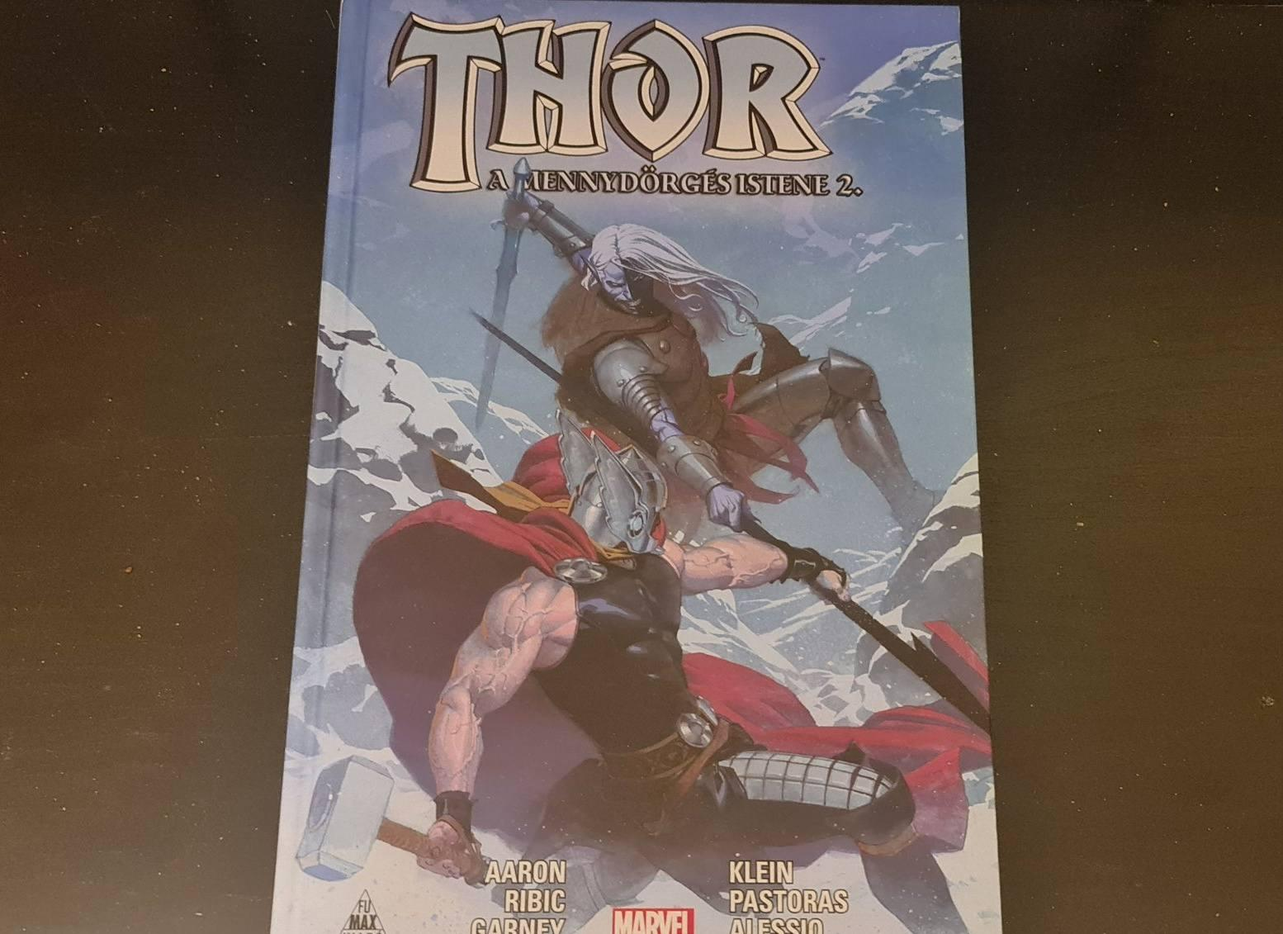comic: (272, 0, 1000, 933)
